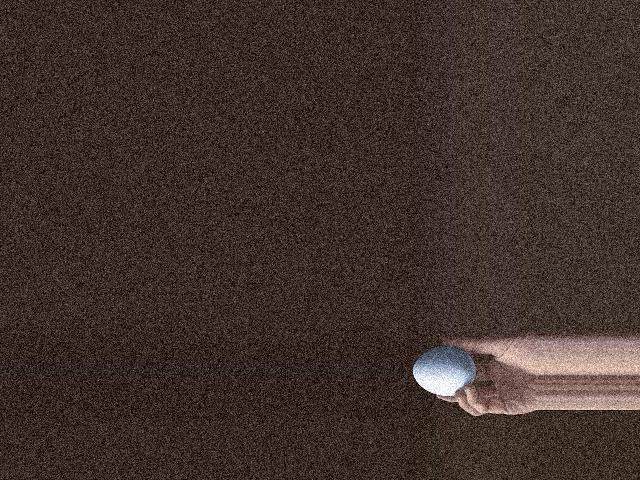egg: (412, 347, 475, 397)
